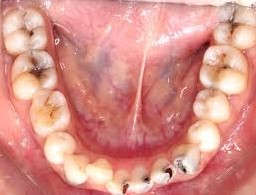LLCI_decay: (133, 168, 153, 193)
LR1BC_healthy: (46, 131, 74, 160)
LR1M_decay: (14, 51, 55, 93)
LR2BC_decay: (33, 93, 68, 133)
LR2M_decay: (4, 11, 49, 52)
LRCI_decay: (109, 170, 131, 195)
LRC_healthy: (67, 154, 89, 182)
LRLI_healthy: (88, 158, 111, 184)
UL1BC_healthy: (191, 121, 221, 151)
UL1M_decay: (200, 45, 248, 91)
UL2BC_healthy: (194, 90, 231, 122)
UL2M_decay: (217, 5, 256, 44)
ULC_decay: (171, 144, 202, 176)
ULLI_decay: (154, 157, 175, 184)
